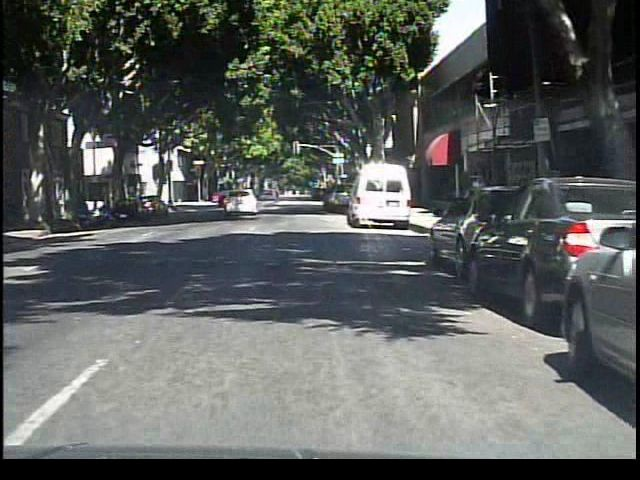person: (462, 167, 492, 227), (266, 177, 286, 210)
